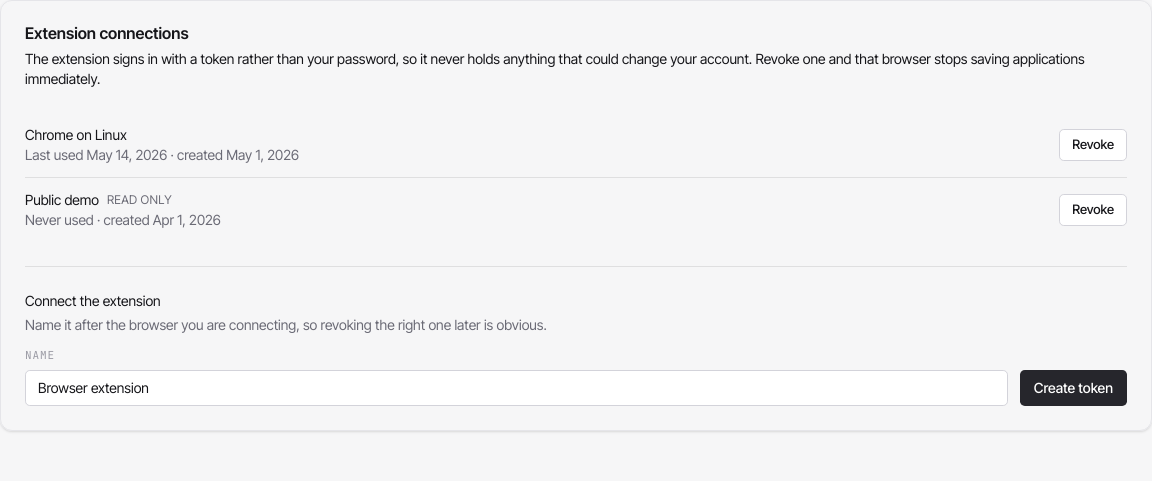
Test: TokensCard › surfaces a failure to issue without pretending a token exists
Click the button "Create token": coordinates (1073, 388) [1020,370,1127,406]
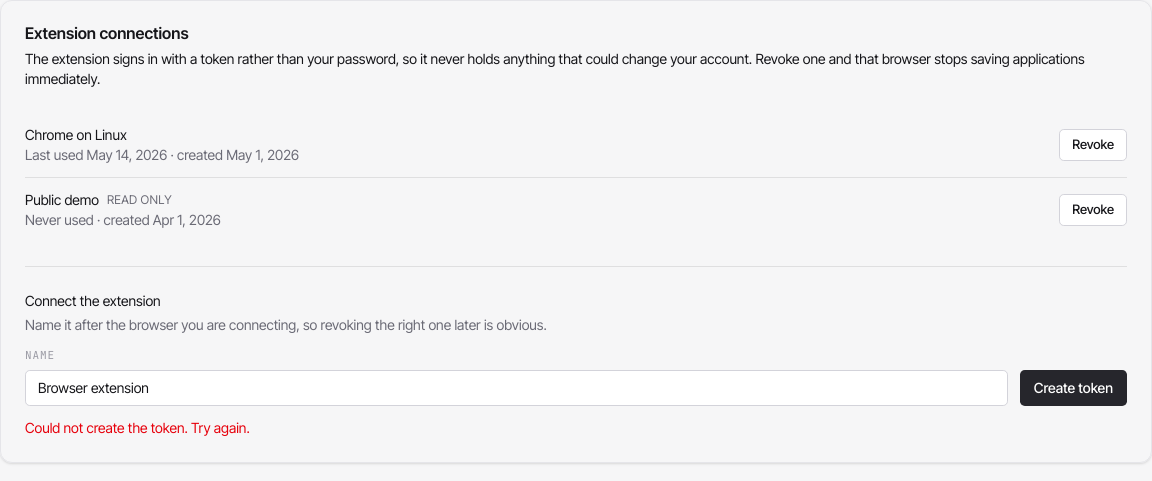
Expected: the message shows "Could not create the token", [25,418,250,436]
